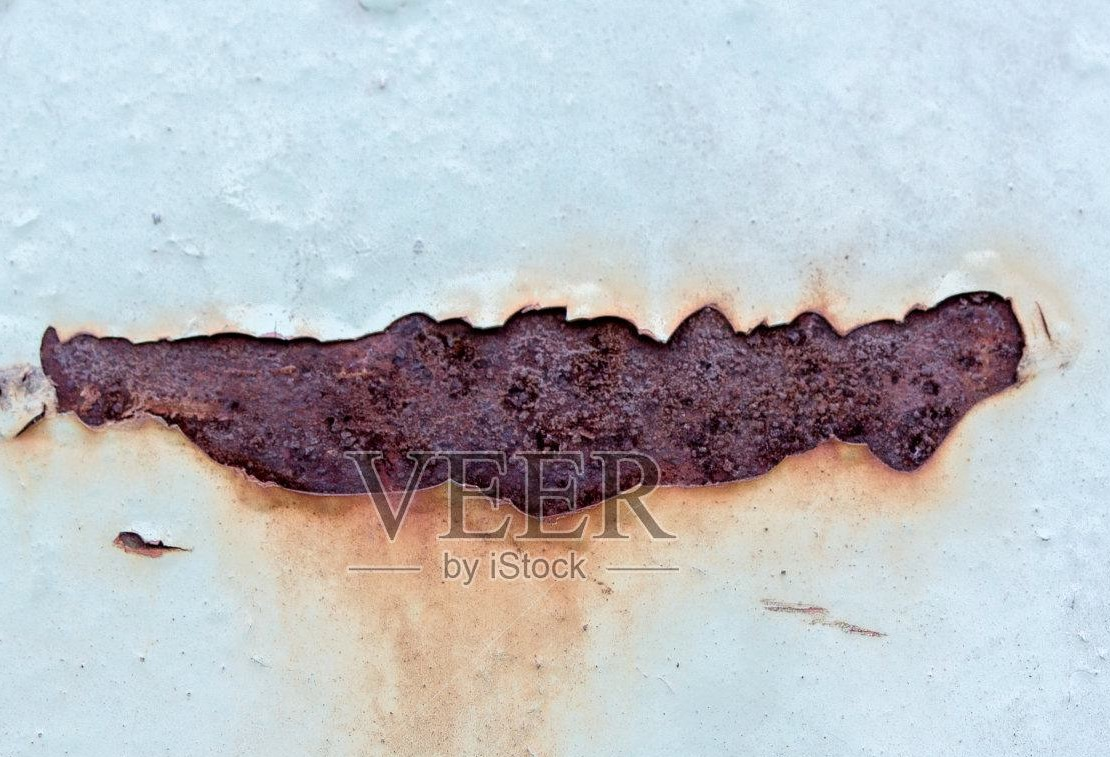Corrosion: (182, 437, 954, 757), (38, 287, 1026, 520), (112, 531, 188, 558)
Crack: (13, 404, 47, 440), (1034, 300, 1051, 341)
